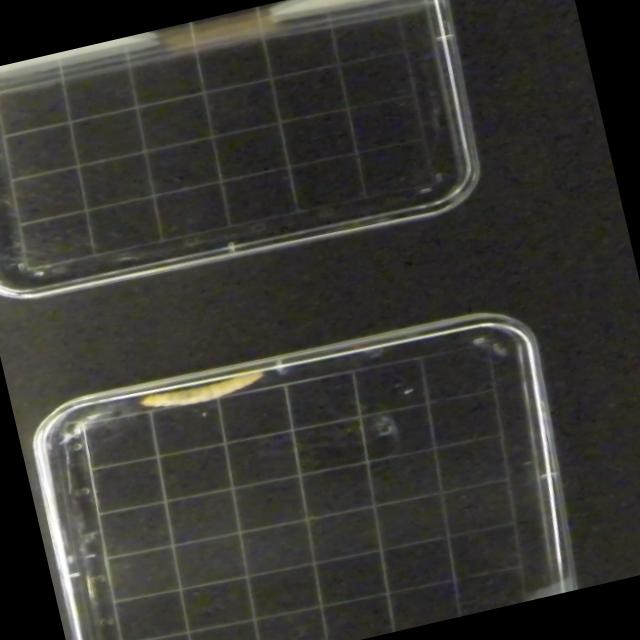larva: (134, 367, 268, 418)
